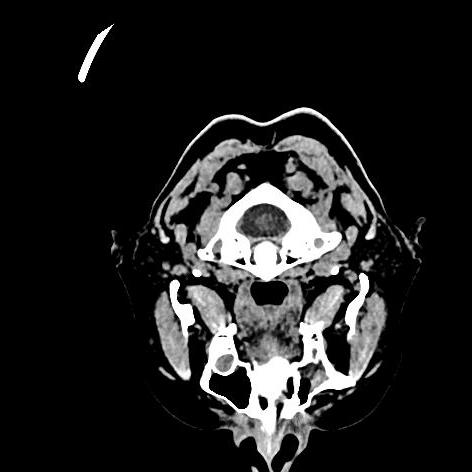Normal_Brain: (116, 107, 435, 472)
